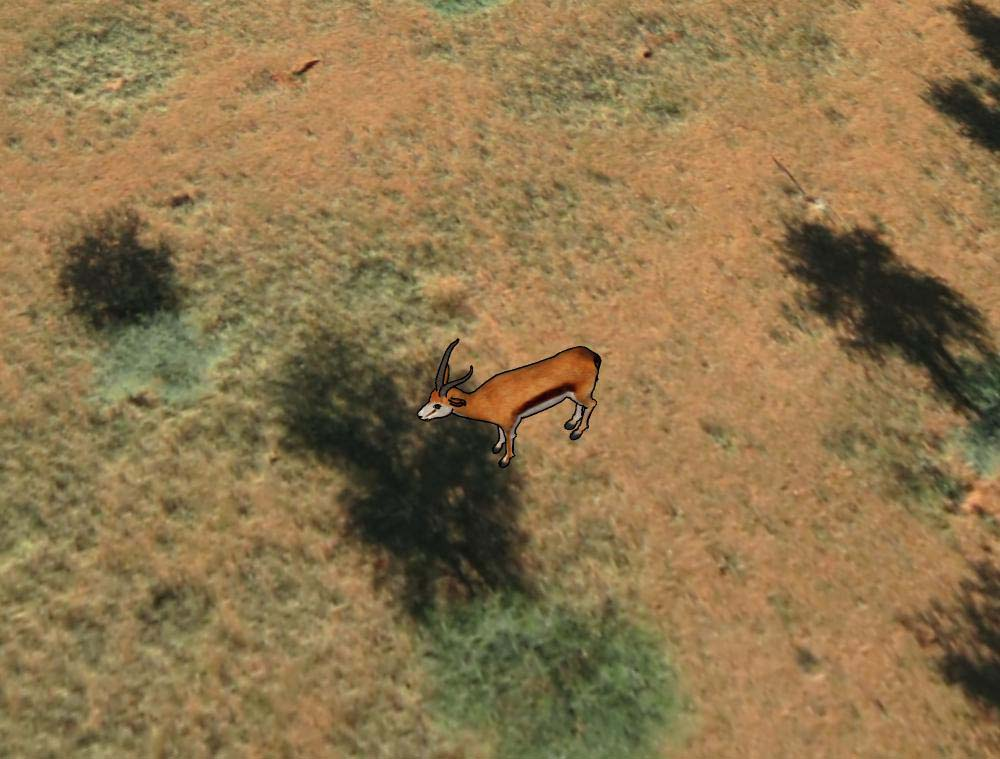springbok: (418, 334, 603, 468)
